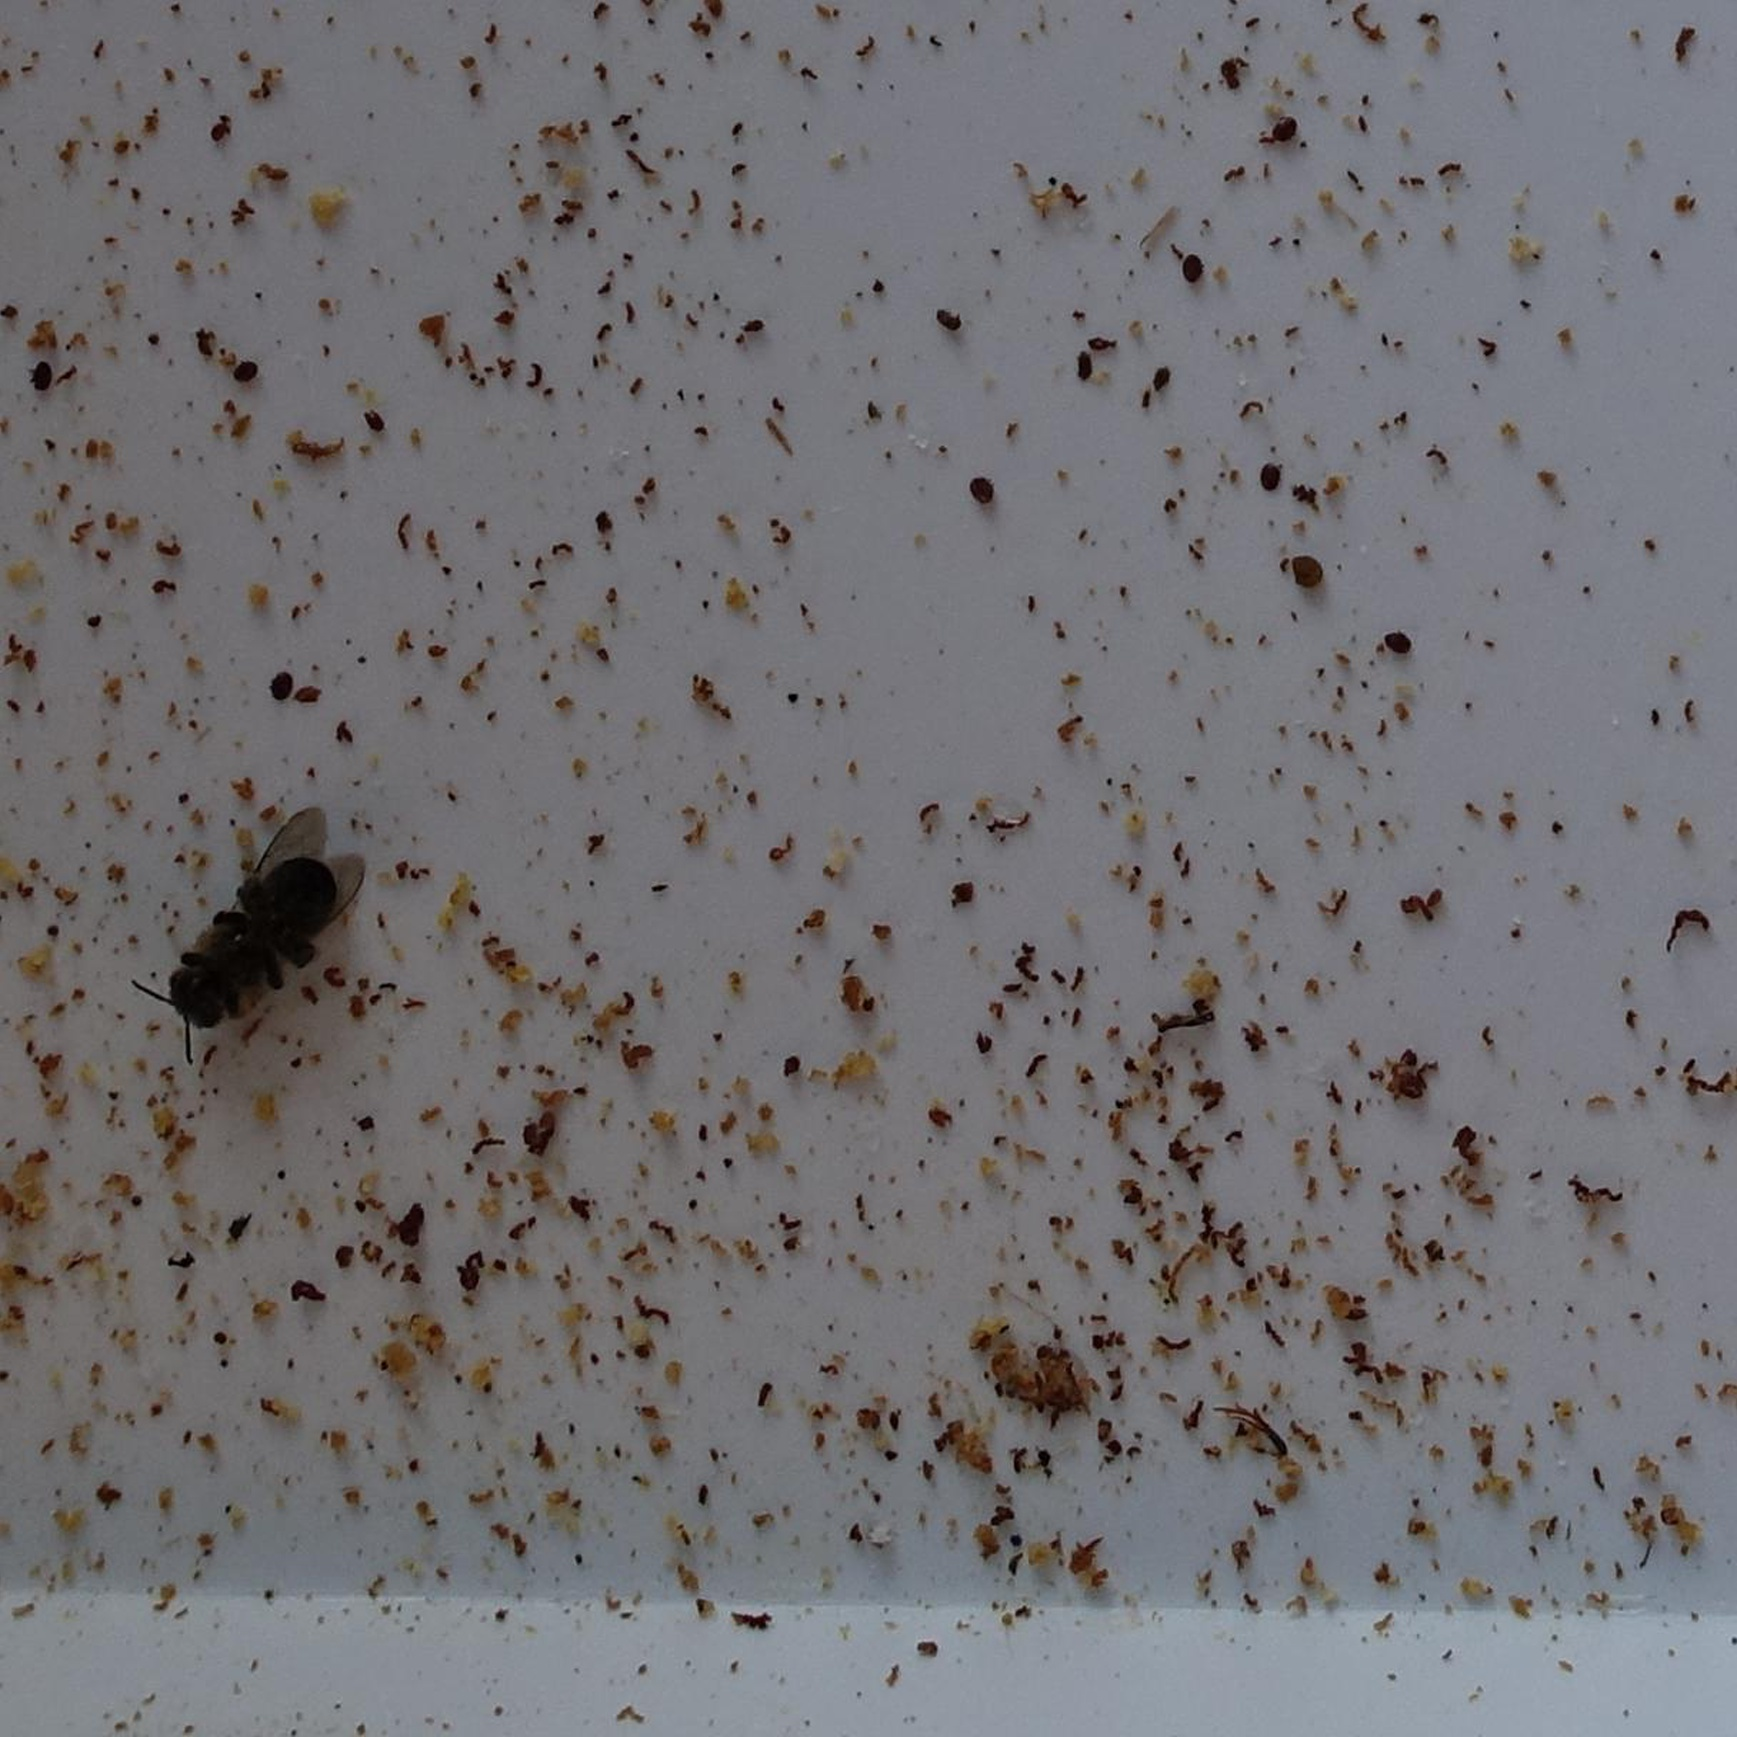Varroa: (972, 474, 999, 503), (30, 359, 57, 387), (269, 678, 294, 705), (1385, 628, 1411, 654), (1180, 247, 1204, 274), (231, 355, 255, 379), (1273, 110, 1296, 134), (1257, 464, 1277, 487)
